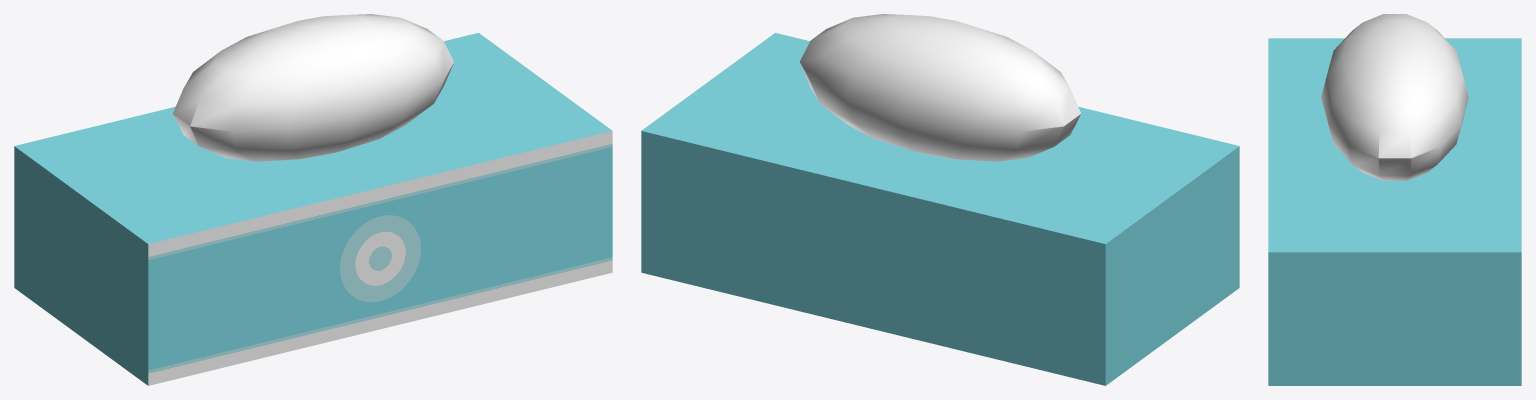
File: Tissues.fbx
The picture shows the model from 3 angles, left to right: view 1: azimuth 30°, elevation 25°; view 2: azimuth 150°, elevation 25°; view 3: azimuth 270°, elevation 25°; orthographic projection. The views are drawn at different scales.
Parts seen in each view (by area): view 1: Tissues; view 2: Tissues; view 3: Tissues.
Part boxes in pixels (left/top/right/bottom): Tissues: left=14, top=14, right=612, bottom=385; Tissues: left=641, top=14, right=1239, bottom=385; Tissues: left=1268, top=14, right=1521, bottom=385.
Bounding box in the file's own units: 0.24 × 0.125 × 0.12.
Materials: 3 (1 with a texture image).
